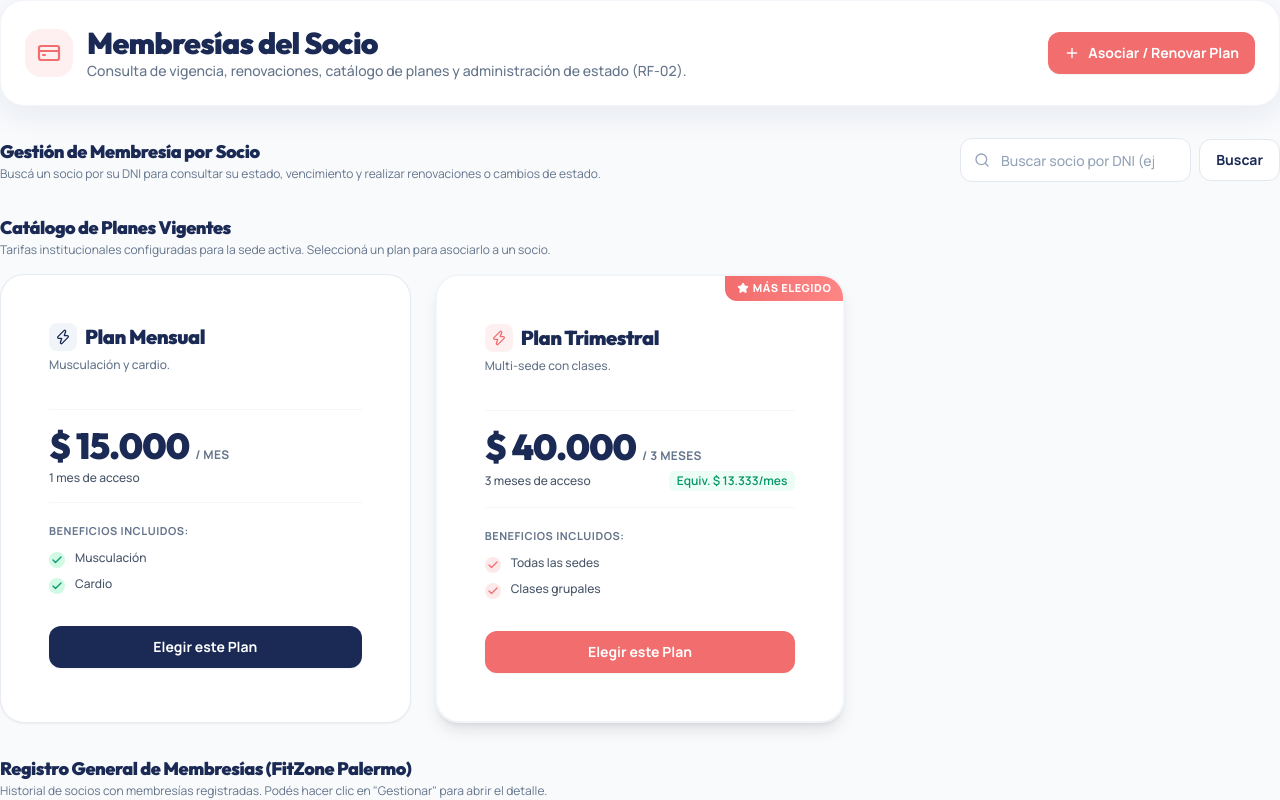
MembresiasPage (Integración) › permite abrir el modal para asociar o renovar plan
This screenshot has width=1280, height=800.
What coordinates should you click on to do the following:
click the button "Asociar / Renovar Plan"
I would click on:
 (1152, 53)
Its box is [1048, 32, 1255, 74].
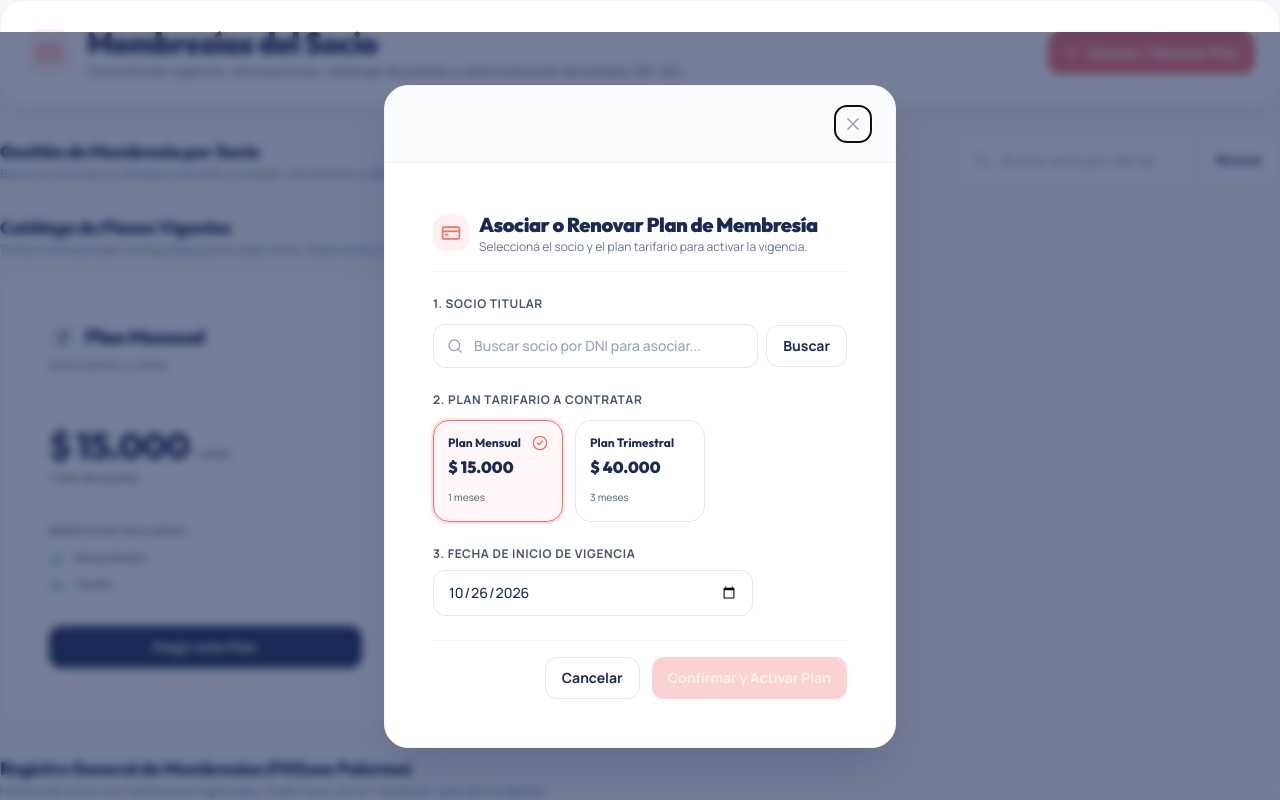
Expected: the heading "Asociar o Renovar Plan de Membresía" is shown, [479, 210, 818, 238]
Expected: the text "1. Socio Titular" is shown, [433, 294, 543, 312]
